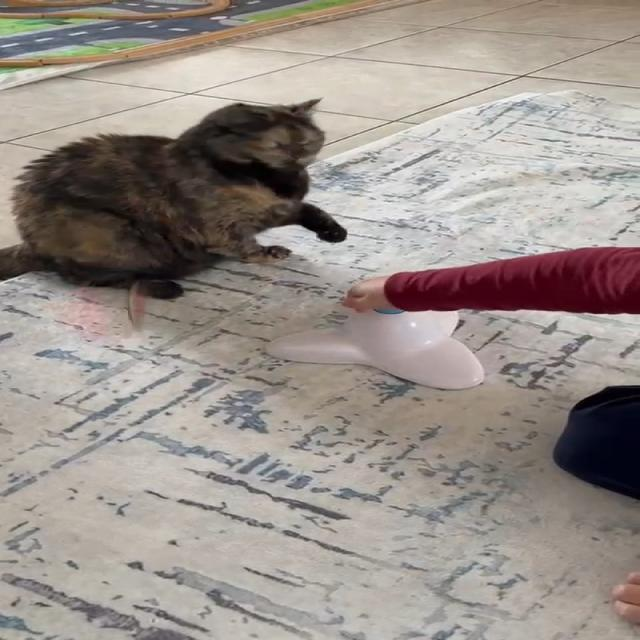authorized: (0, 96, 348, 300)
